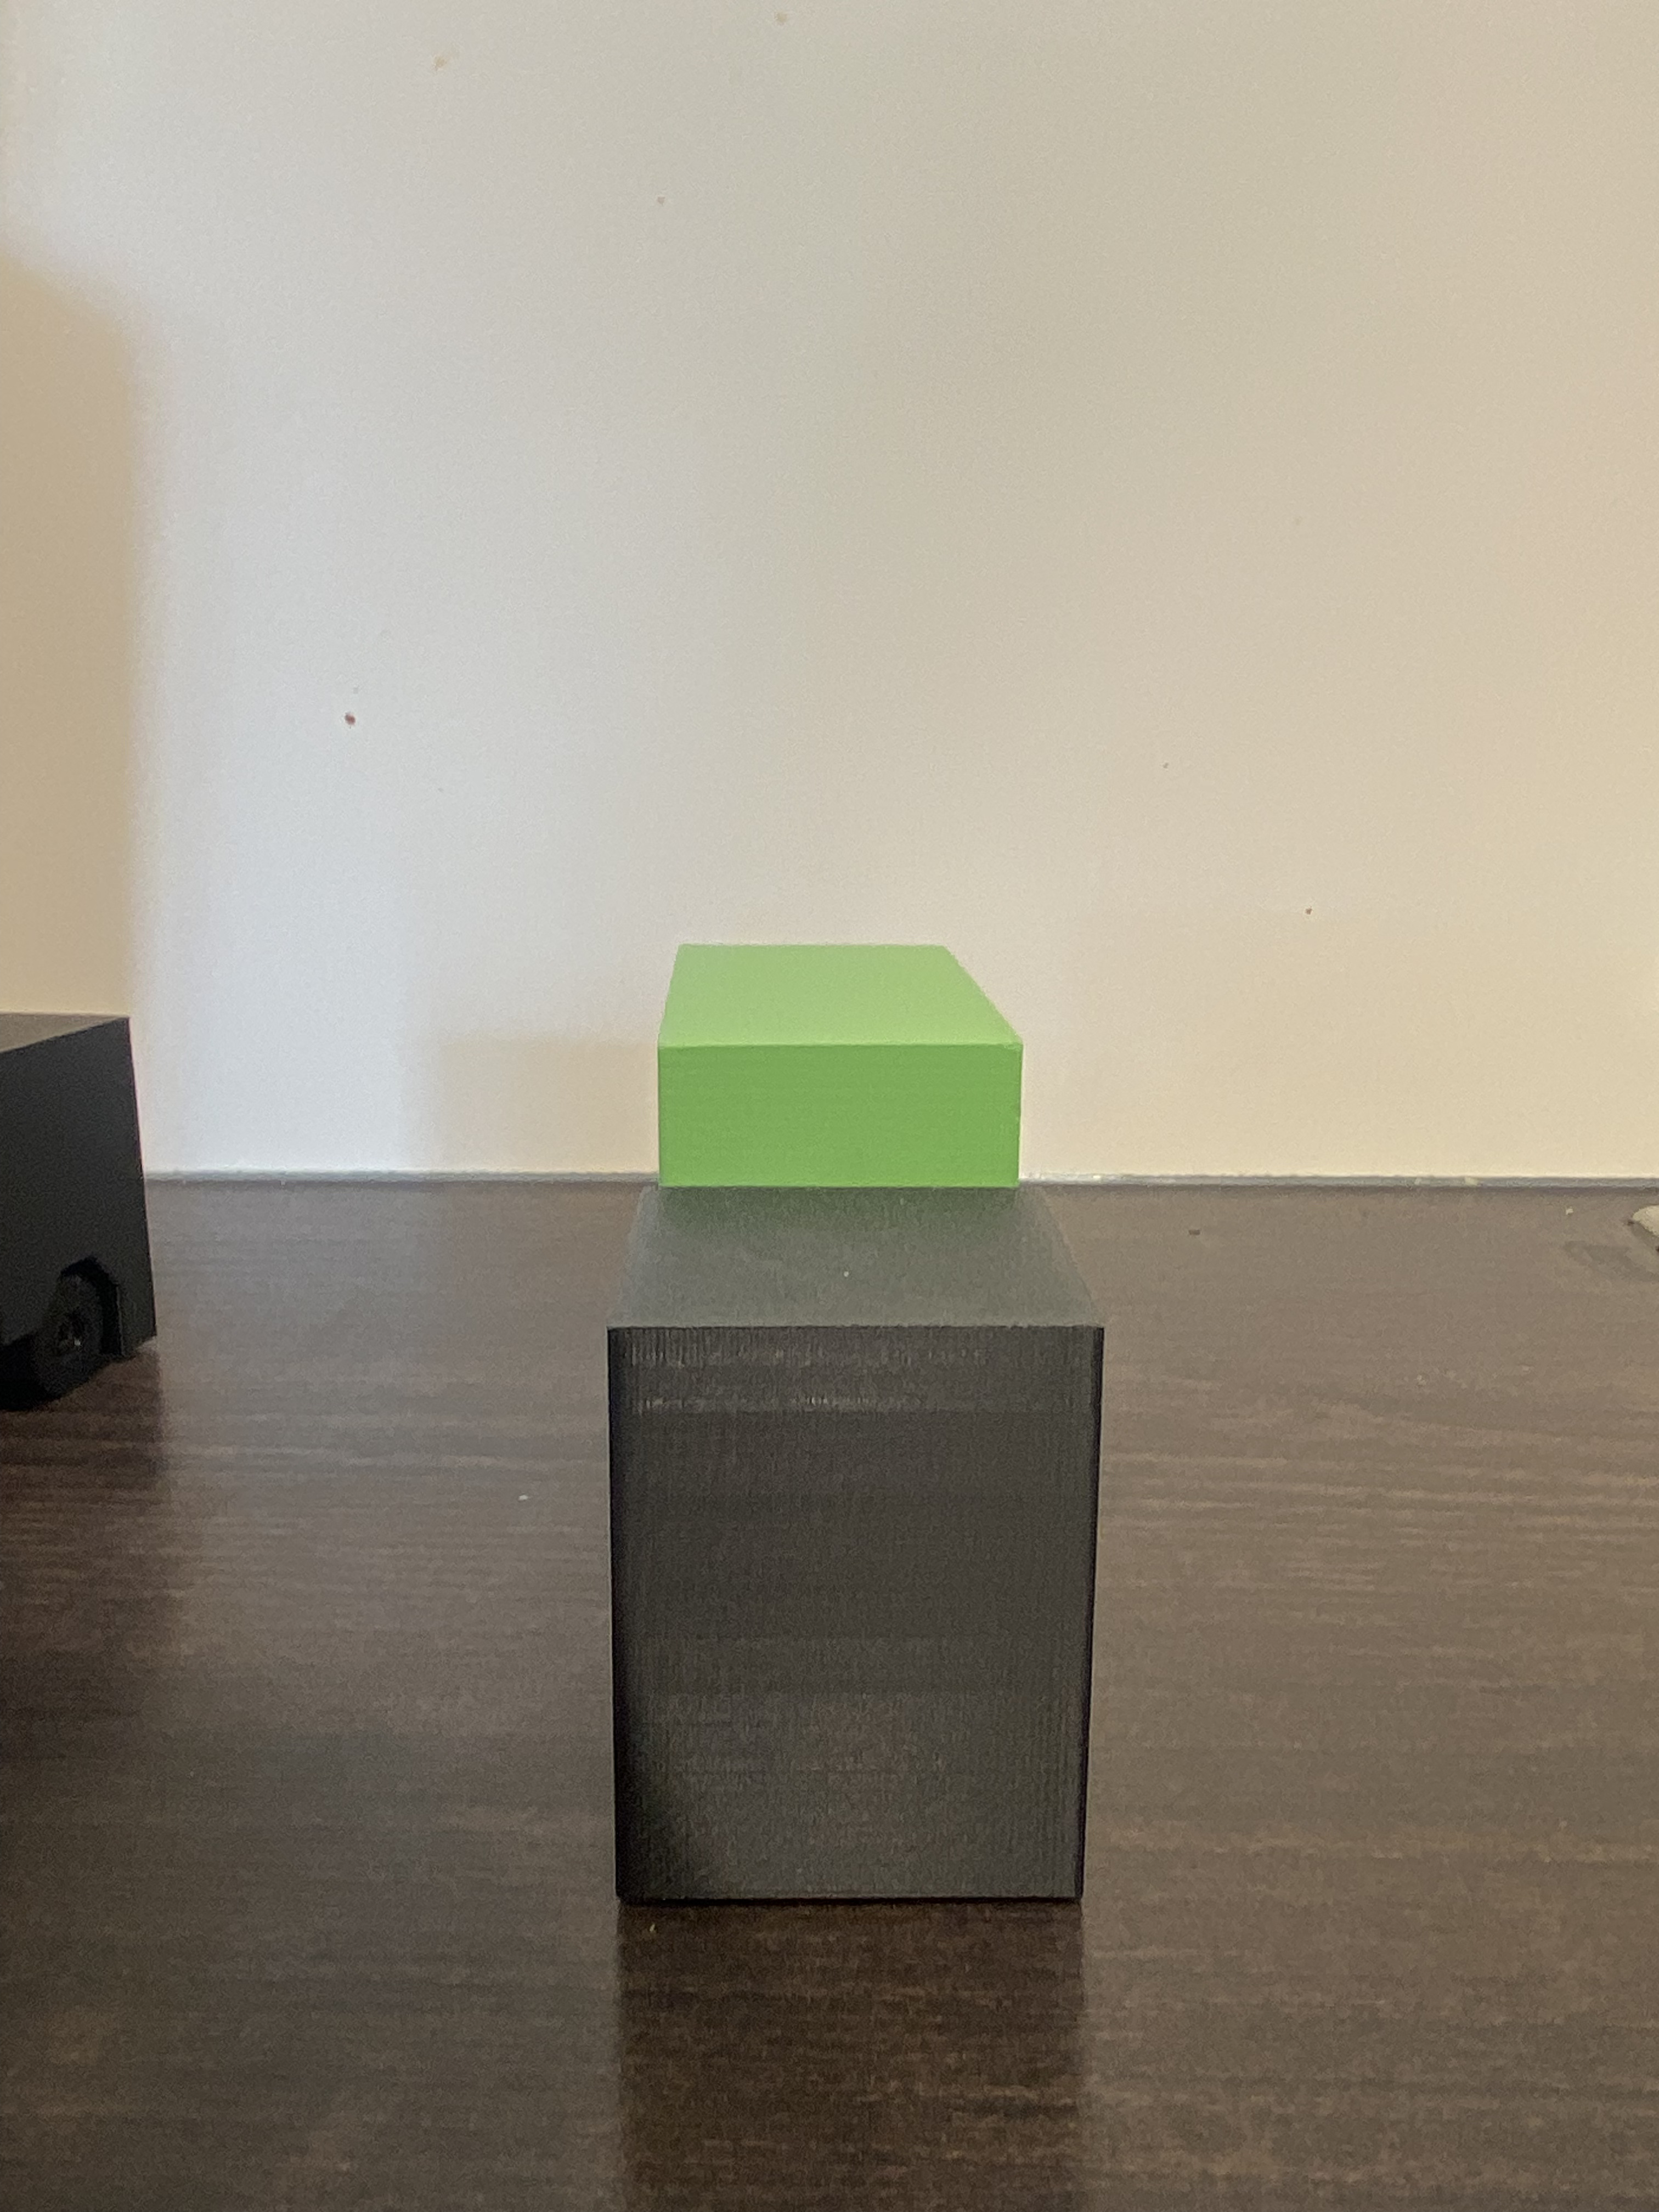green_truck: (606, 934, 1121, 1912)
